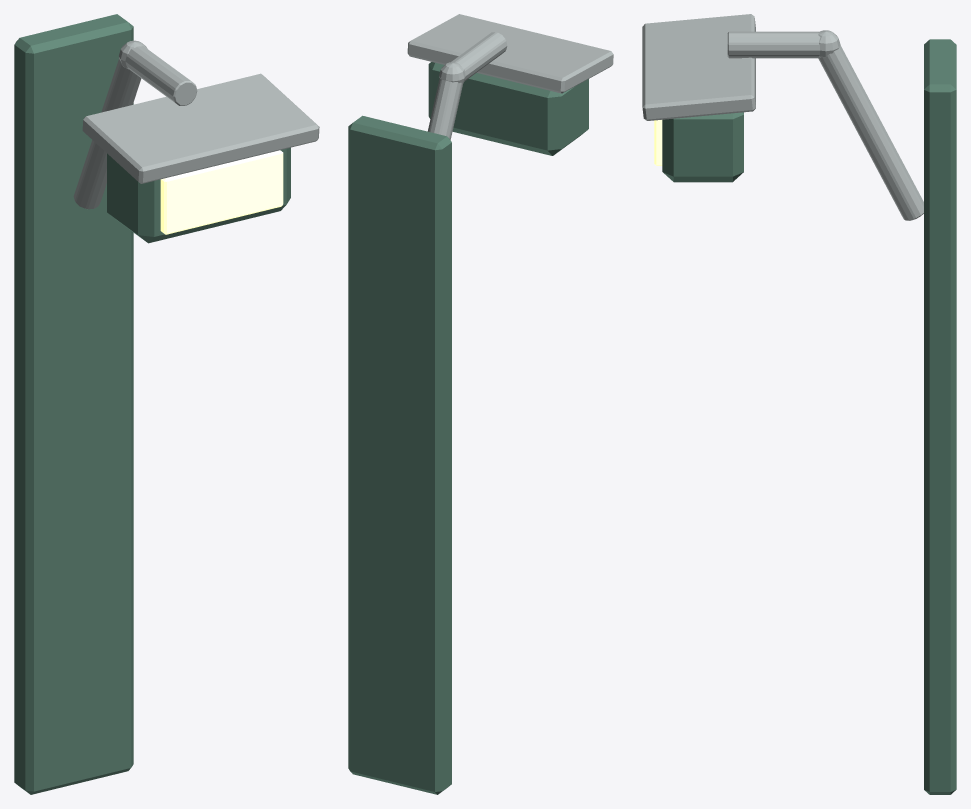
Rendered from runtime.glb.
3 views of the same model, side by side, from view 1: azimuth 30°, elevation 25°; view 2: azimuth 150°, elevation 25°; view 3: azimuth 270°, elevation 25° (orthographic). The views are drawn at different scales.
Parts seen in each view (by area): view 1: reactor-maintenance-light-v03_nocol; view 2: reactor-maintenance-light-v03_nocol; view 3: reactor-maintenance-light-v03_nocol.
Boxes of the visible parts, x1,y1,x2,y2 form: reactor-maintenance-light-v03_nocol: [14, 14, 319, 794]; reactor-maintenance-light-v03_nocol: [348, 14, 613, 794]; reactor-maintenance-light-v03_nocol: [642, 14, 956, 794].
Bounding box in the file's own units: 0.9676 × 4 × 1.54.
